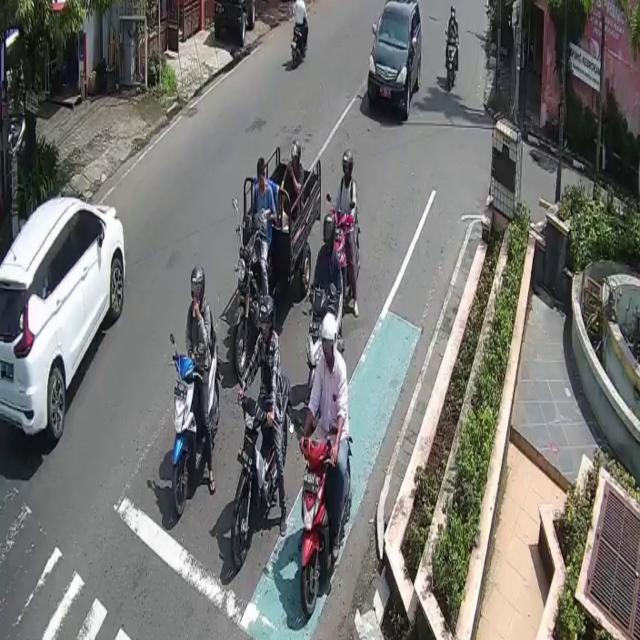car: (0, 195, 125, 442), (366, 0, 421, 122)
motorbike: (230, 374, 291, 563), (300, 431, 353, 616), (173, 321, 220, 523), (233, 240, 270, 384), (444, 35, 460, 95)
